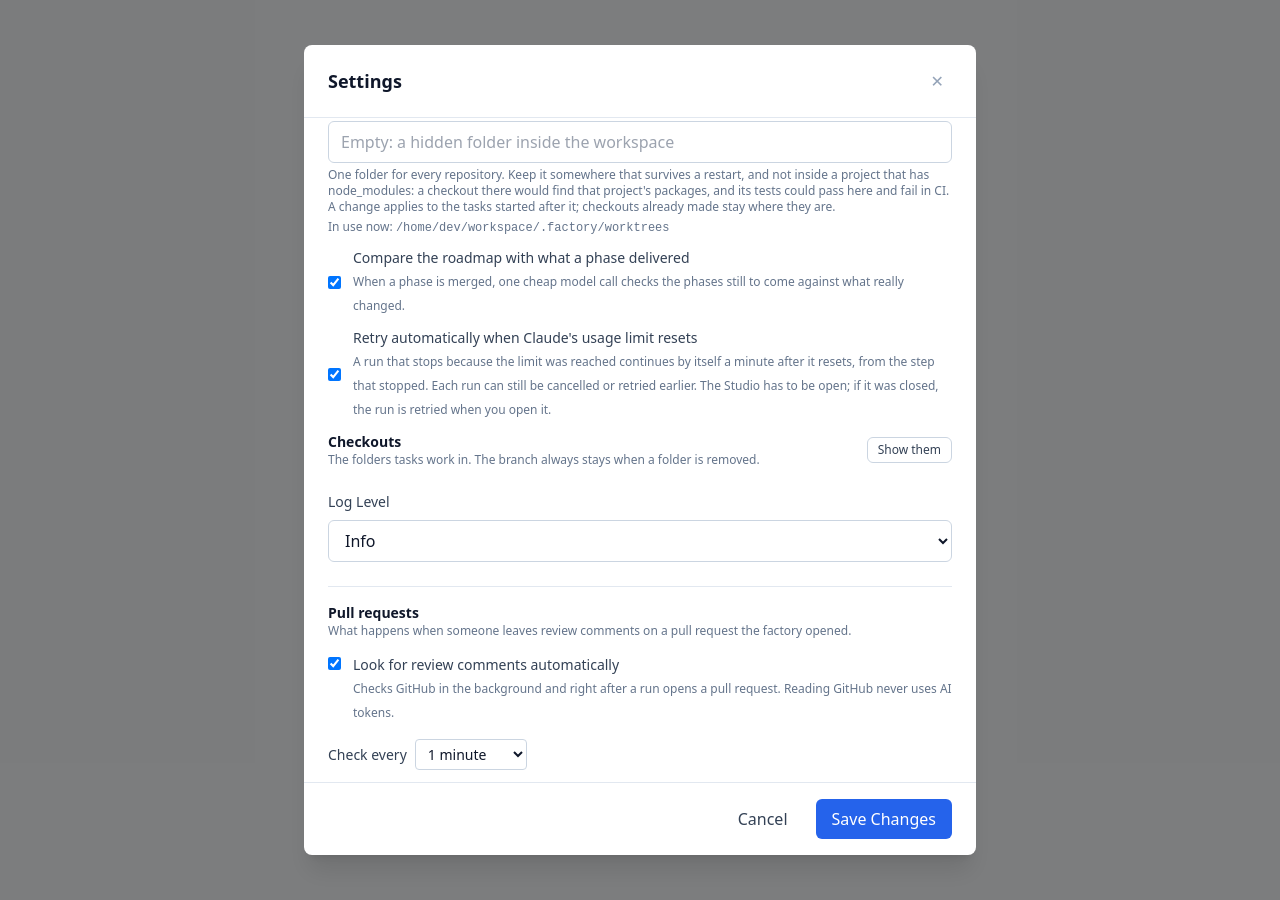
Test case: the checkouts › says why the list could not be read
(page scrolled)
Click the button "Show them" at (909, 450), box [867,437,952,463]
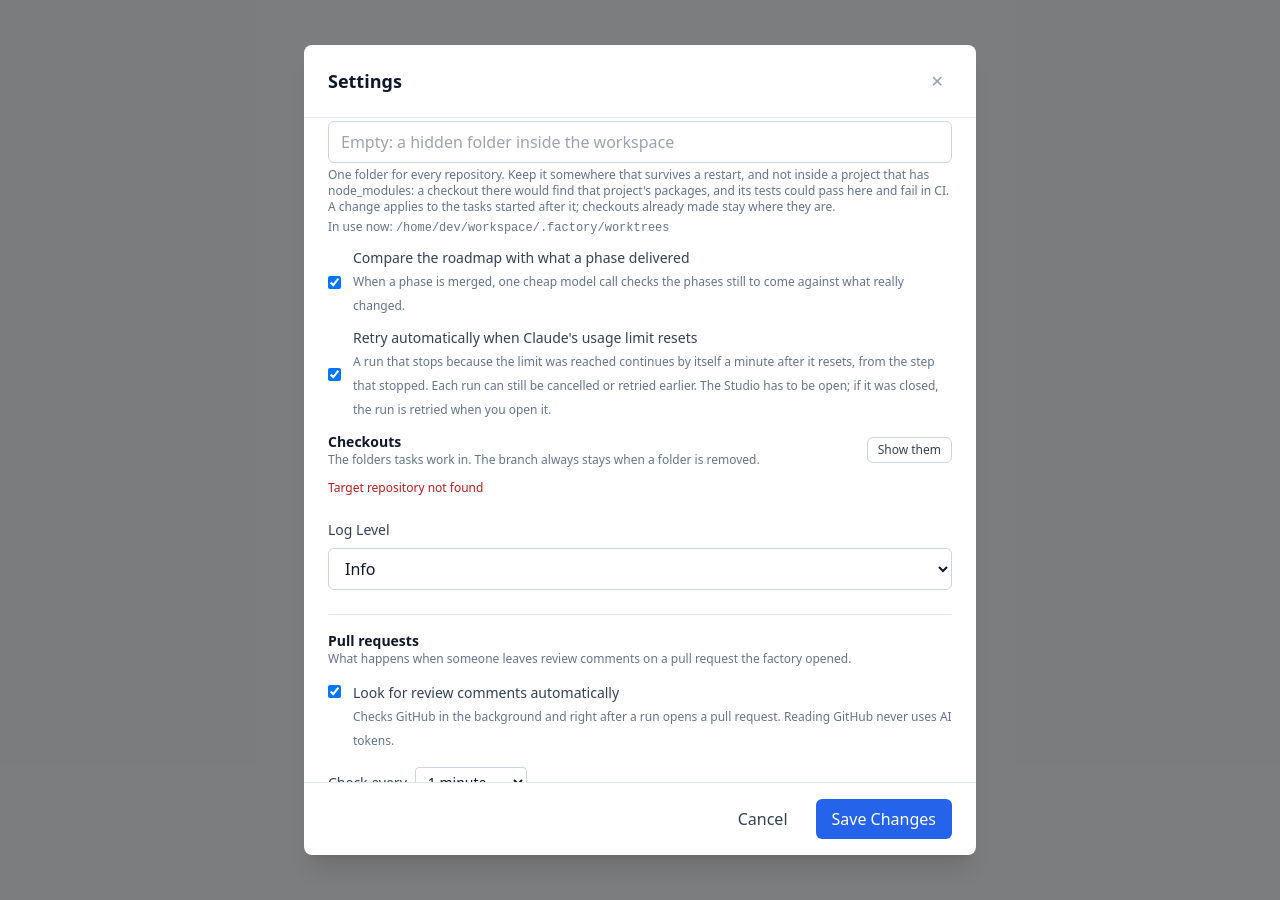
Check: the message reads "Target repository not found", box [328,479,483,496]
